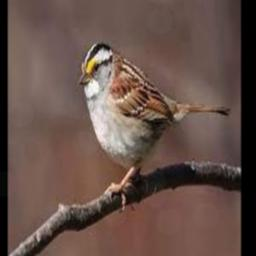Sparrow: (77, 42, 229, 211)
